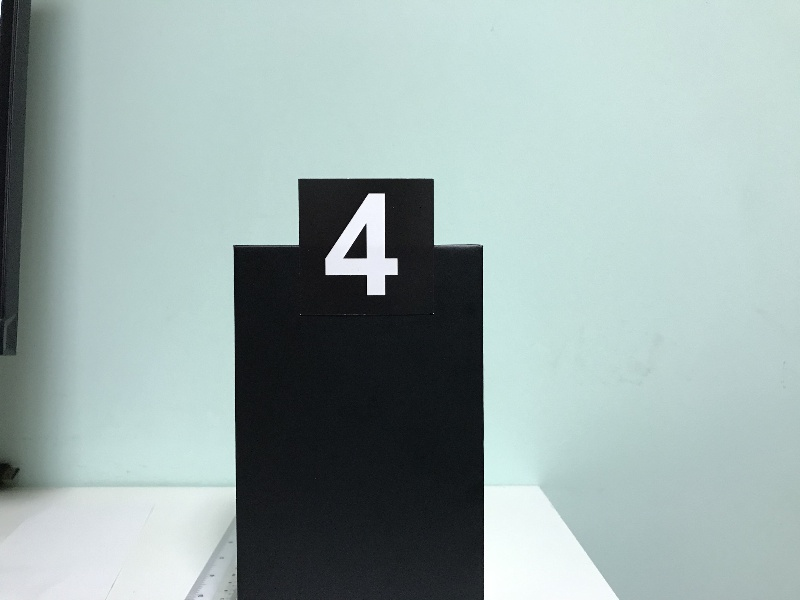Four-9: (302, 182, 432, 313)
